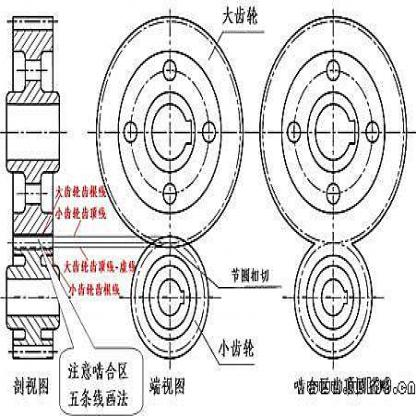FOD: (95, 13, 245, 252), (259, 13, 408, 244), (283, 244, 385, 371), (130, 230, 210, 362)
